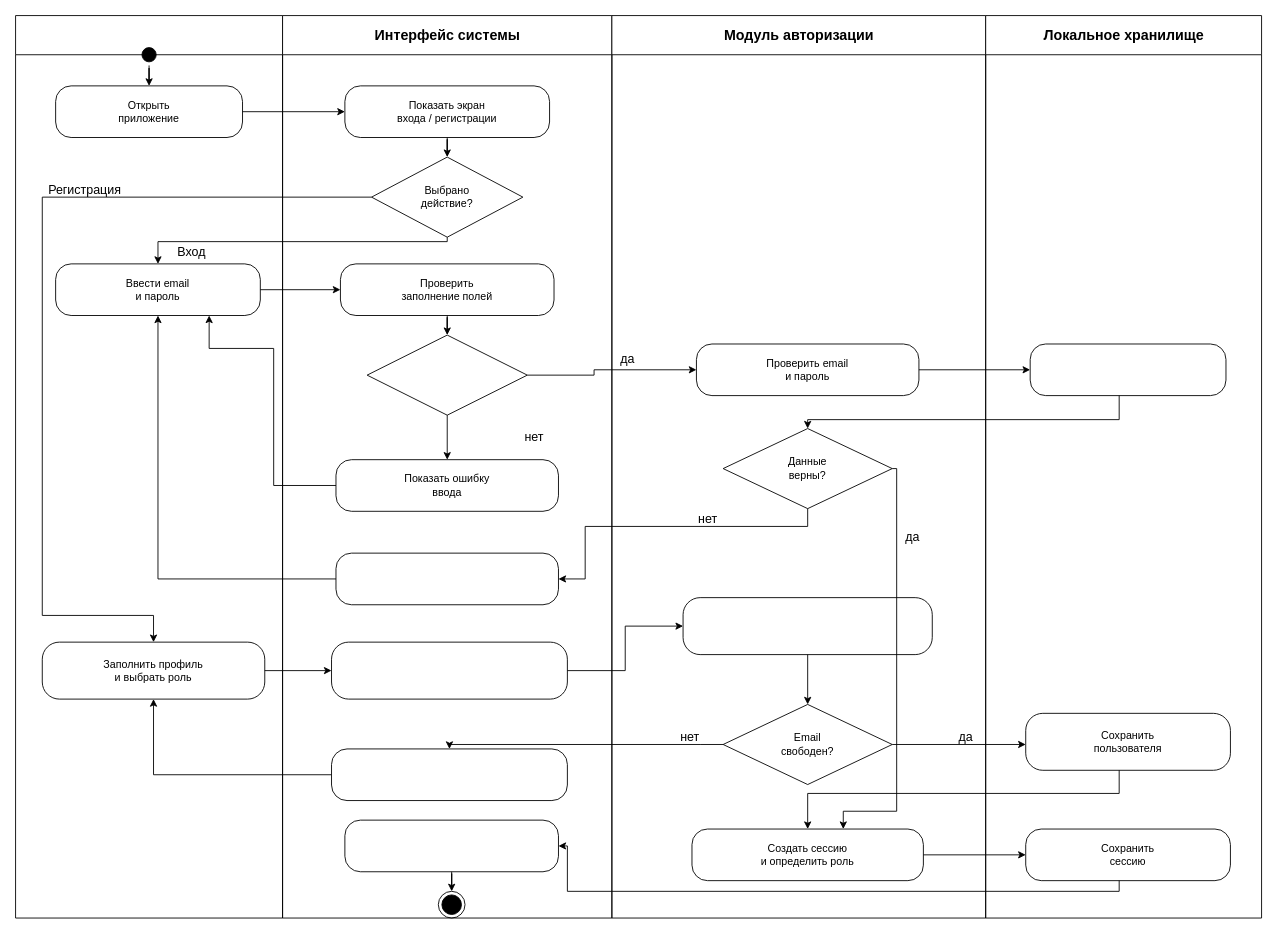
Some shapes in this 1277 by 934 pixel diagram are drawn without their labels. The box of each missing label's shape, as (x1, y1, x2, y2) in pixels:
Найти профиль пользователя: (1029, 343, 1226, 396)
Открыть главный экран по роли: (344, 819, 558, 872)
Показать ошибку авторизации: (335, 552, 558, 605)
Показать ошибку регистрации: (331, 748, 567, 801)
Пользователь: (15, 15, 283, 918)
Поля заполнены?: (366, 334, 527, 415)
Проверить данные регистрации: (331, 641, 567, 699)
Проверить уникальность email: (682, 597, 932, 655)
